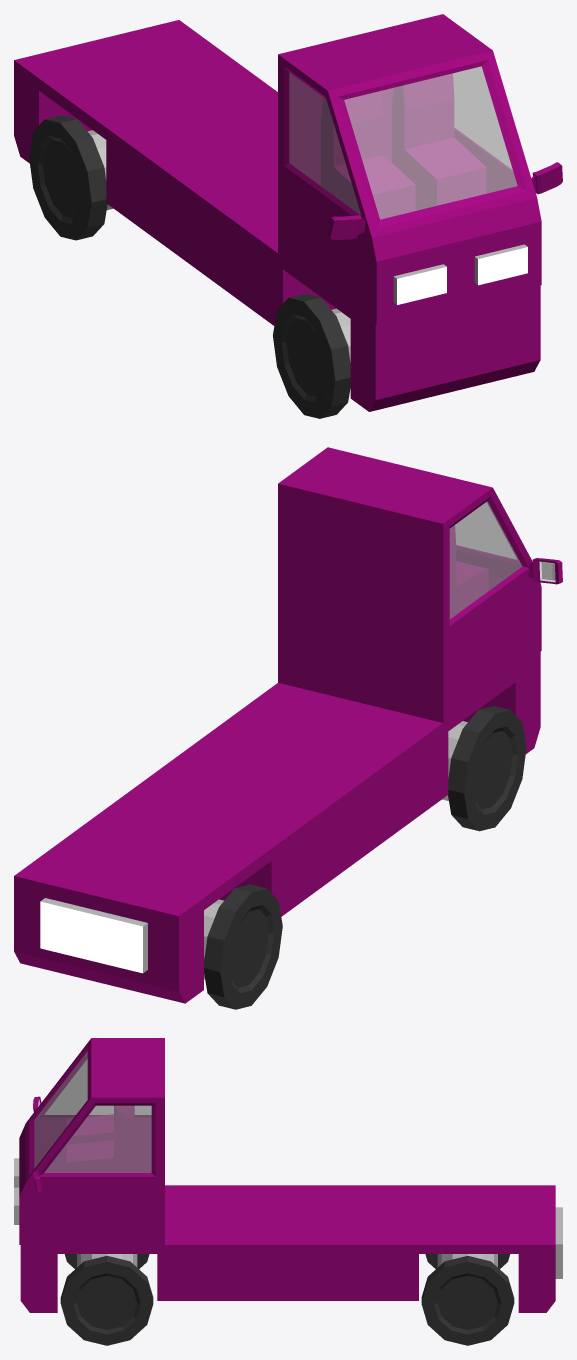
The model's file is cars18.glb.
3 renders of one model, top to bottom at view 1: azimuth 30°, elevation 25°; view 2: azimuth 150°, elevation 25°; view 3: azimuth 270°, elevation 25°, orthographic. The views are drawn at different scales.
Visible parts, largest first — view 1: Car18, Car18Tire2, Car18Tire1; view 2: Car18, Car18Tire1, Car18Tire2; view 3: Car18, Car18Tire1, Car18Tire2.
Boxes of the visible parts, x1=… form: Car18: x1=14, y1=14, x2=562, y2=411; Car18Tire2: x1=29, y1=115, x2=113, y2=240; Car18Tire1: x1=273, y1=293, x2=350, y2=418; Car18: x1=14, y1=447, x2=562, y2=1003; Car18Tire1: x1=442, y1=706, x2=526, y2=831; Car18Tire2: x1=204, y1=884, x2=282, y2=1009; Car18: x1=14, y1=1038, x2=562, y2=1312; Car18Tire1: x1=60, y1=1254, x2=153, y2=1345; Car18Tire2: x1=421, y1=1254, x2=514, y2=1345.
Bounding box in the file's own units: 2.78 × 3.75 × 7.67.
